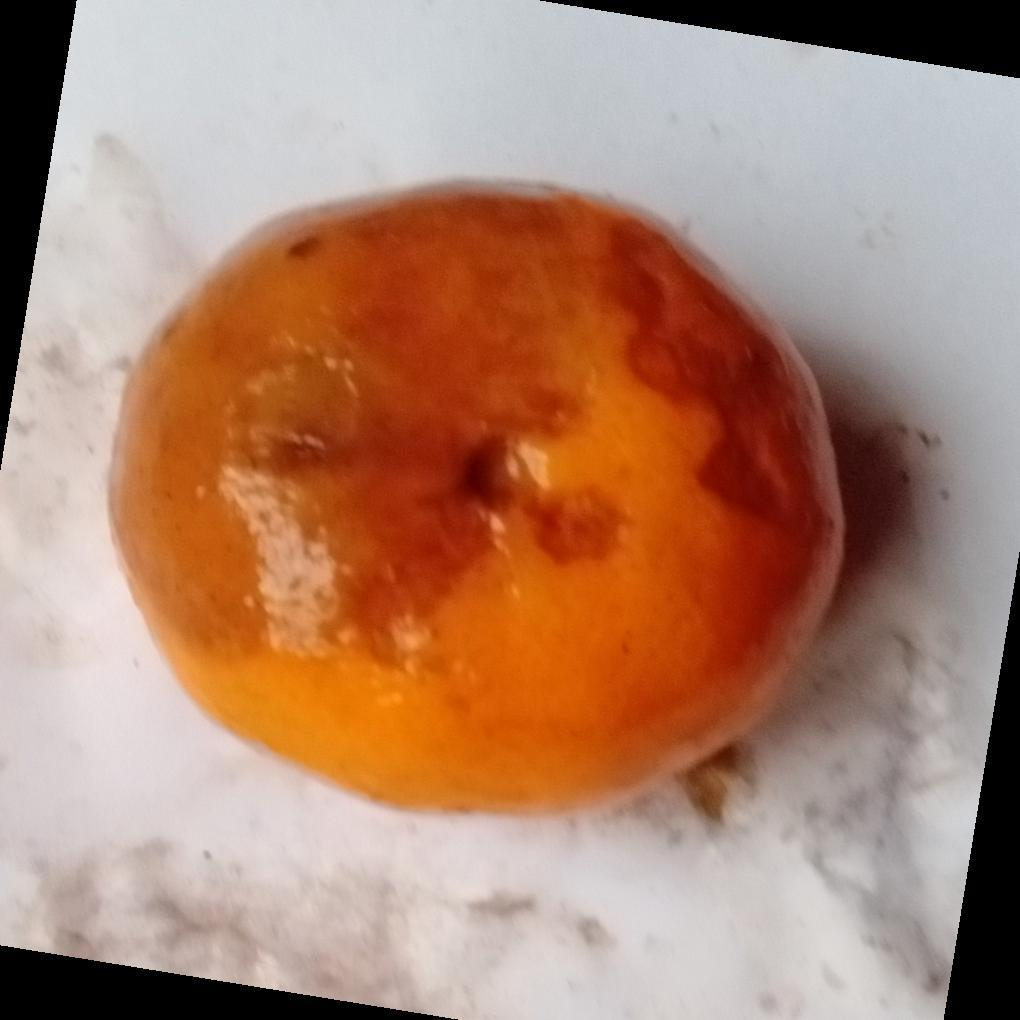FreshOrange: (104, 180, 848, 820)
